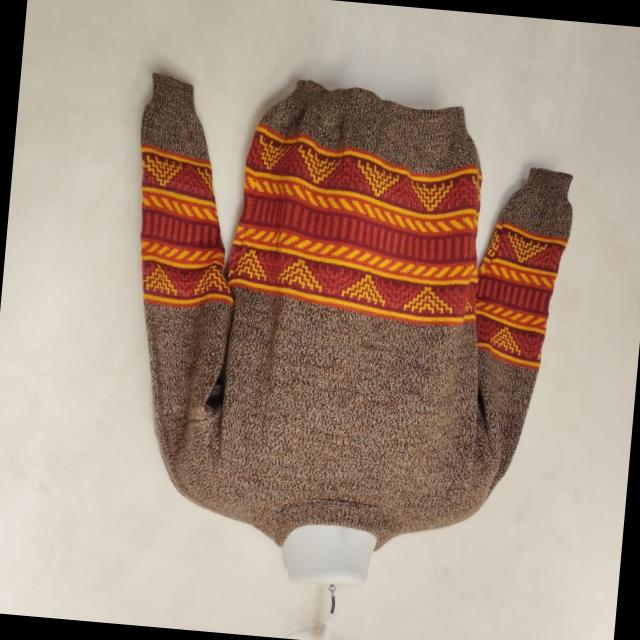Chompa: (102, 65, 582, 600)
